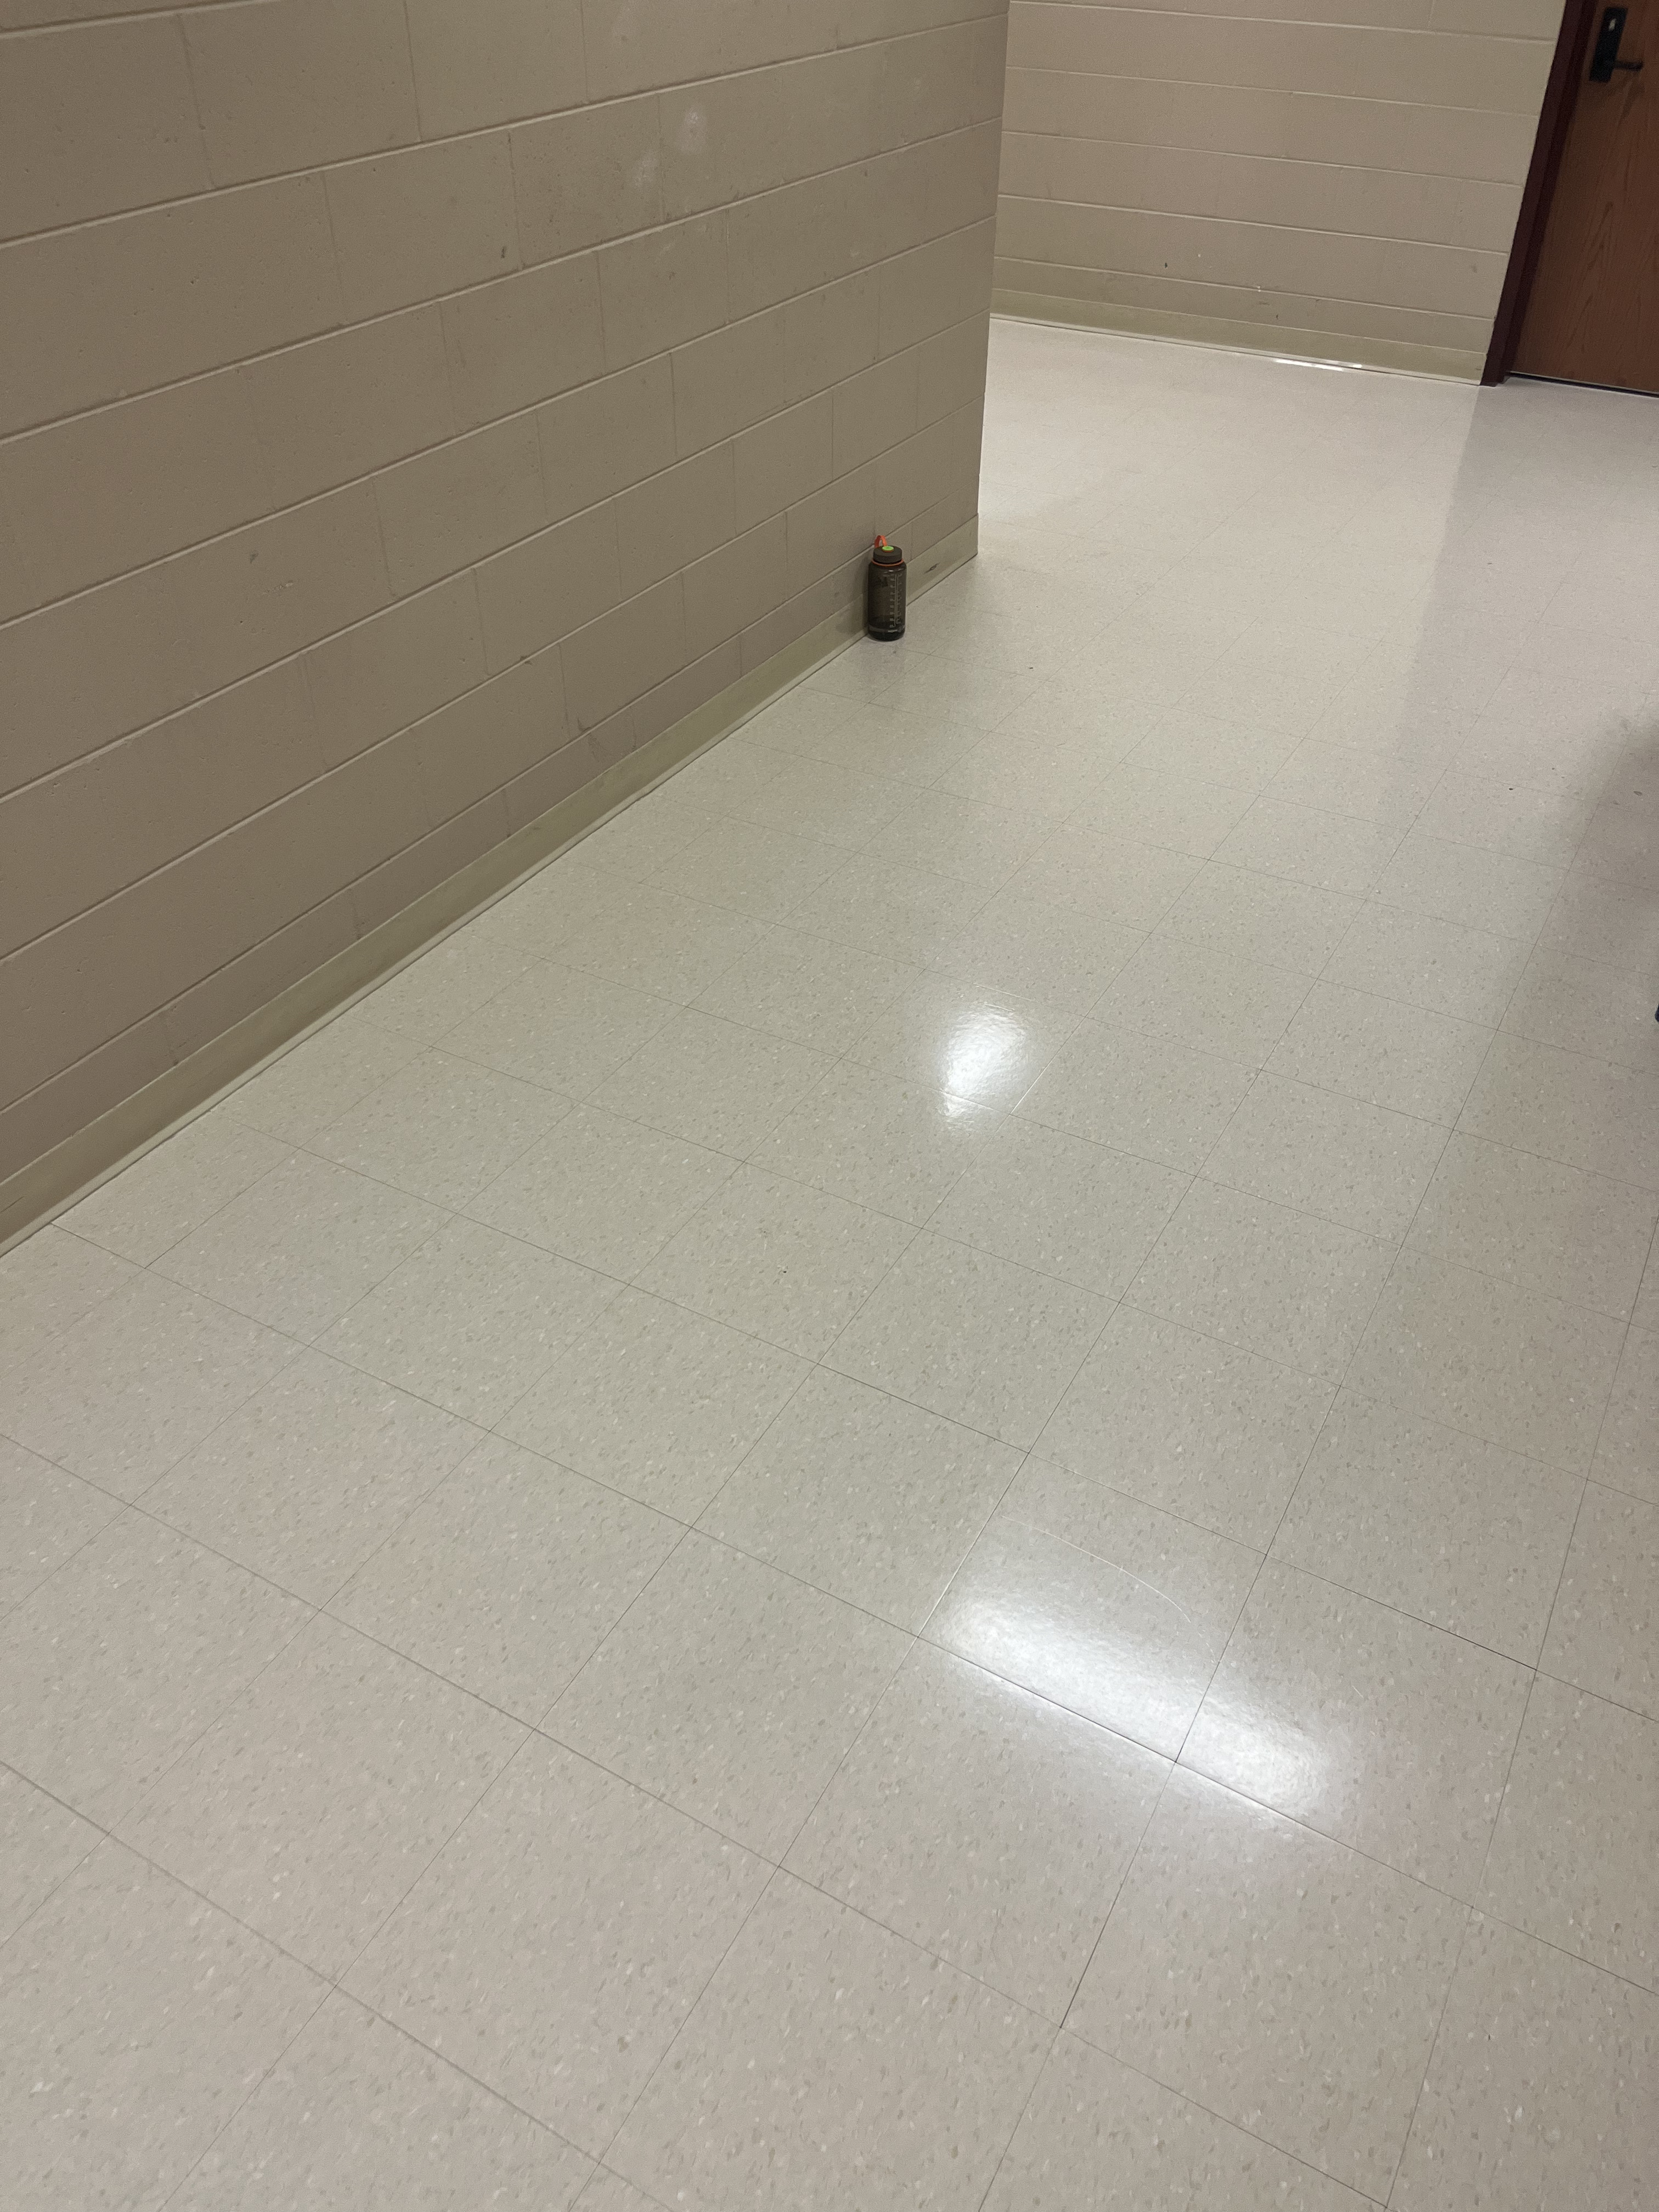bottle: (864, 520, 910, 650)
